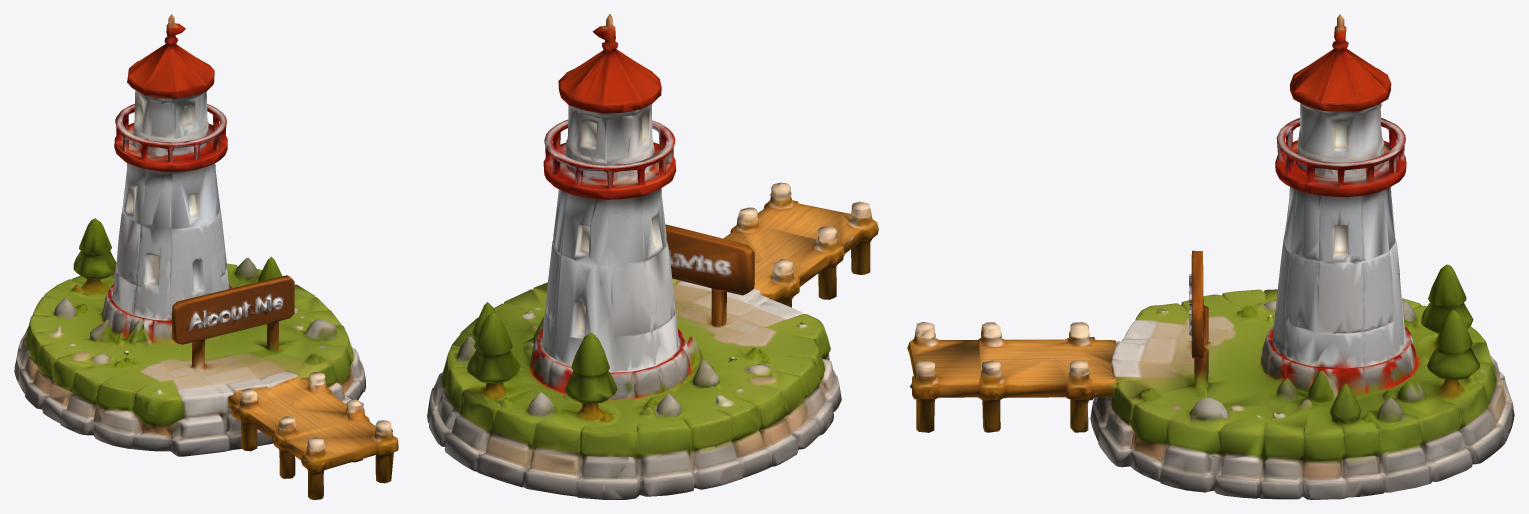
Rendered from aboutme_island.glb.
3 renders of one model, left to right at view 1: azimuth 30°, elevation 25°; view 2: azimuth 150°, elevation 25°; view 3: azimuth 270°, elevation 25°, orthographic. The views are drawn at different scales.
Parts seen in each view (by area): view 1: node_0; view 2: node_0; view 3: node_0.
Boxes of the visible parts, <box> form: node_0: <box>14,14,398,499</box>; node_0: <box>427,14,878,499</box>; node_0: <box>907,14,1514,499</box>.
Bounding box in the file's own units: 0.6224 × 0.7109 × 0.9666.
Materials: 1 (1 with a texture image).
